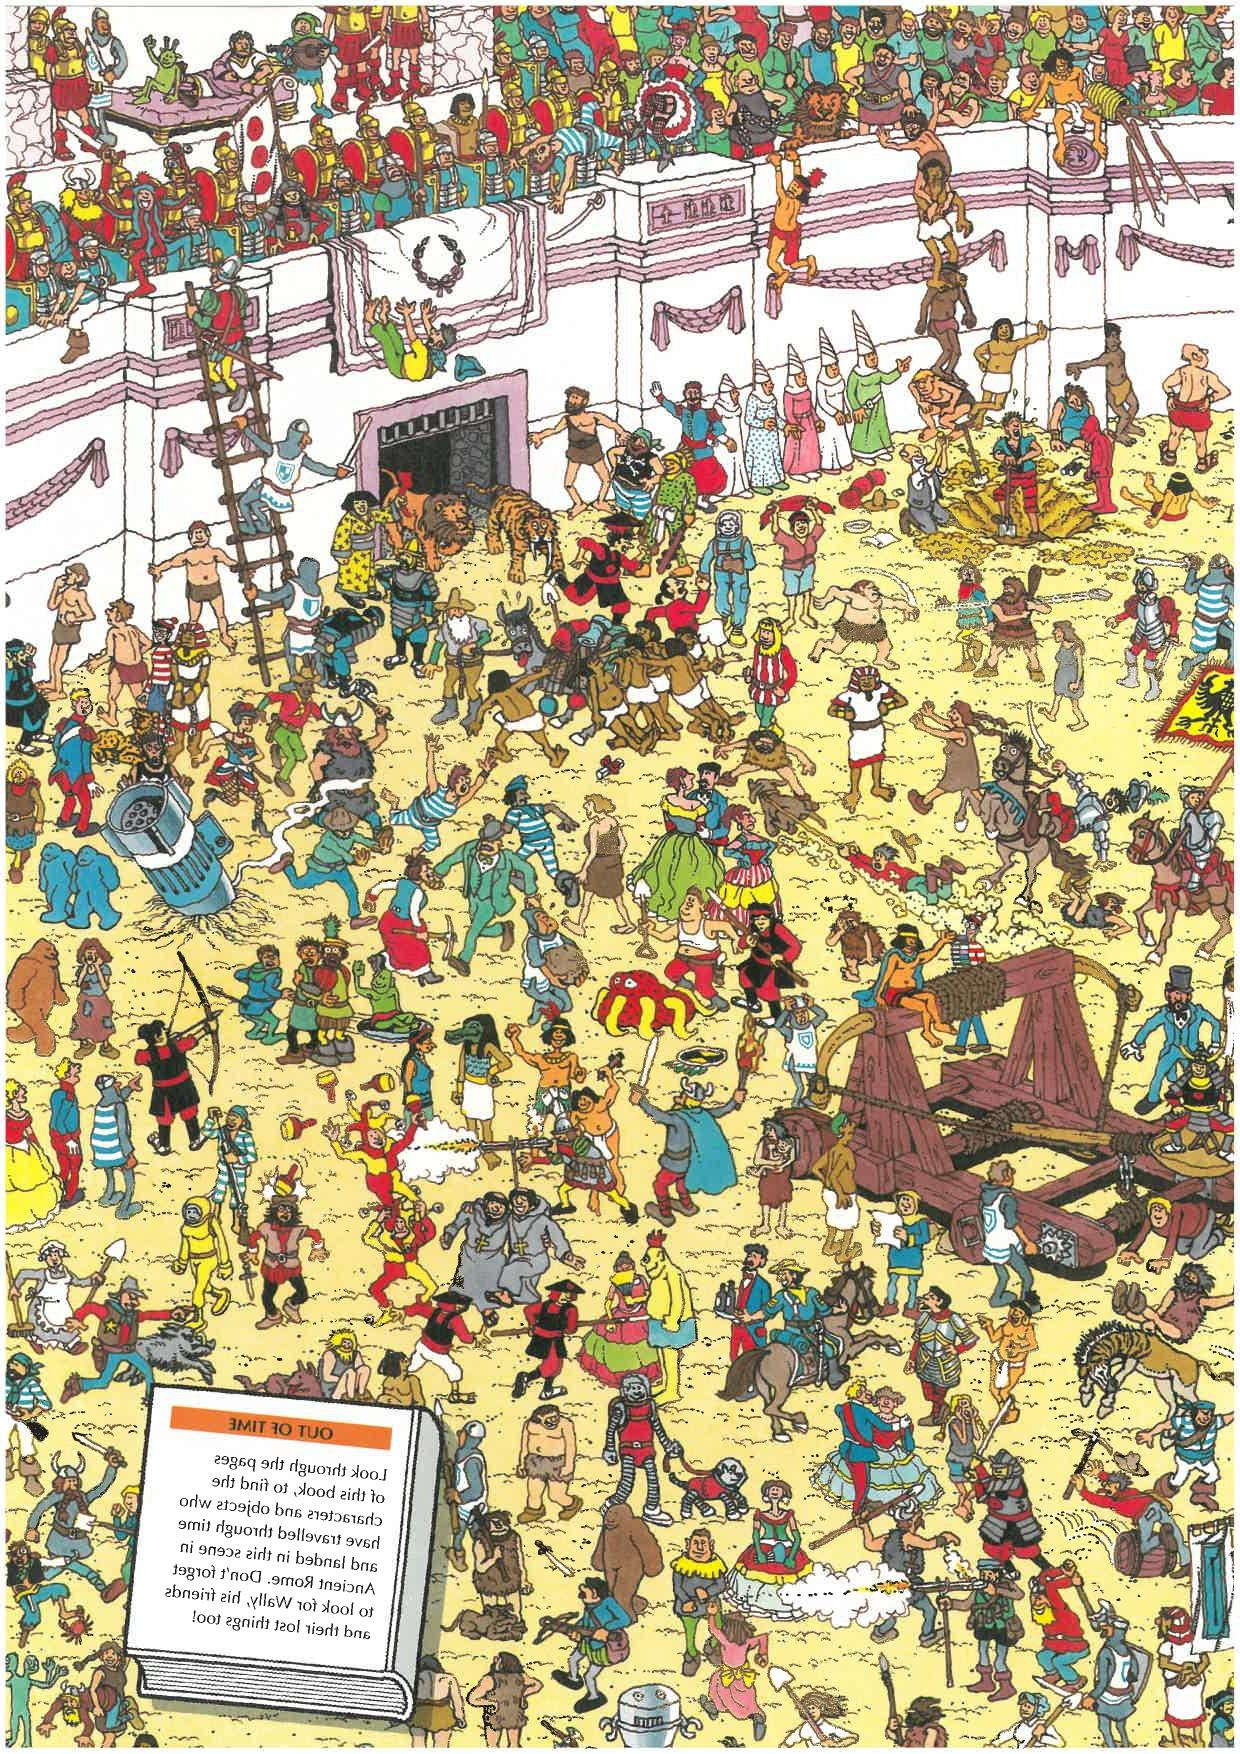waldos: (941, 910, 993, 1053)
